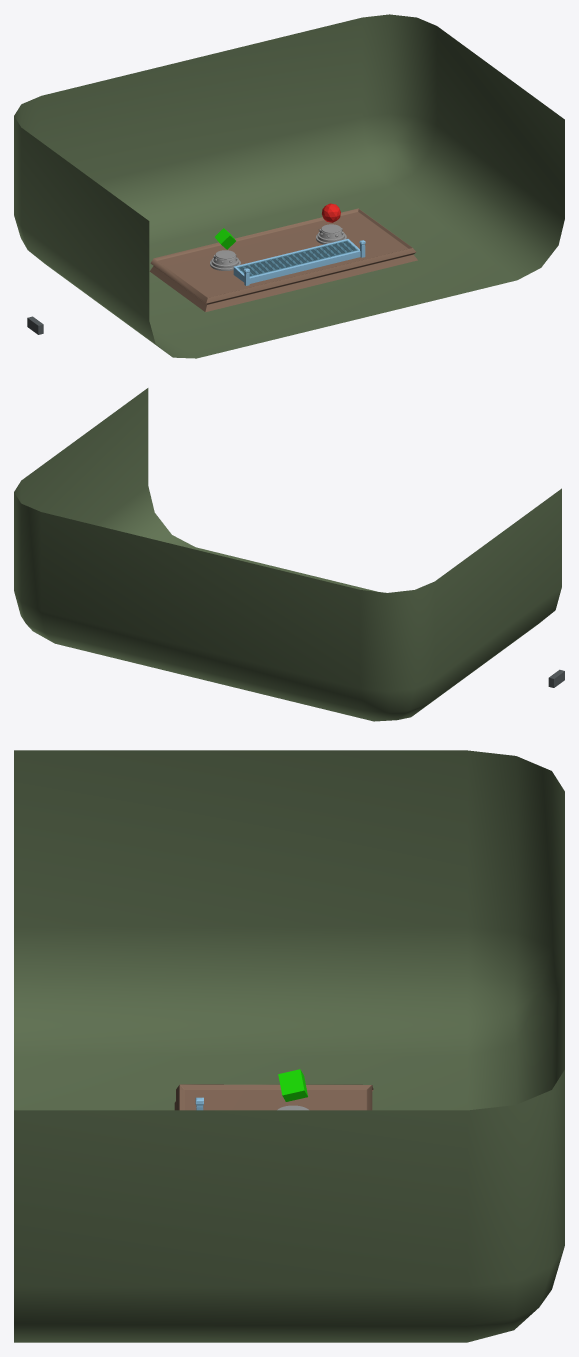
Rendered from beat_blocker_blender.glb.
3 views of the same model, one above another, from view 1: azimuth 30°, elevation 25°; view 2: azimuth 150°, elevation 25°; view 3: azimuth 270°, elevation 25° (orthographic). The views are drawn at different scales.
Parts seen in each view (by area): view 1: backdrop, main_scene, front_barrier, player_pedestal, enemey_pedestal; view 2: backdrop; view 3: backdrop, main_scene, player_cube.
Part boxes in pixels (x1,y1,x2,y2): backdrop: (14,14,564,358); main_scene: (149,208,417,312); front_barrier: (233,239,360,283); player_pedestal: (210,250,240,270); enemey_pedestal: (316,224,346,244); backdrop: (14,388,561,721); backdrop: (14,750,564,1342); main_scene: (174,1084,373,1110); player_cube: (278,1069,307,1101).
Bounding box in the file's own units: 42.81 × 13.14 × 24.35.
